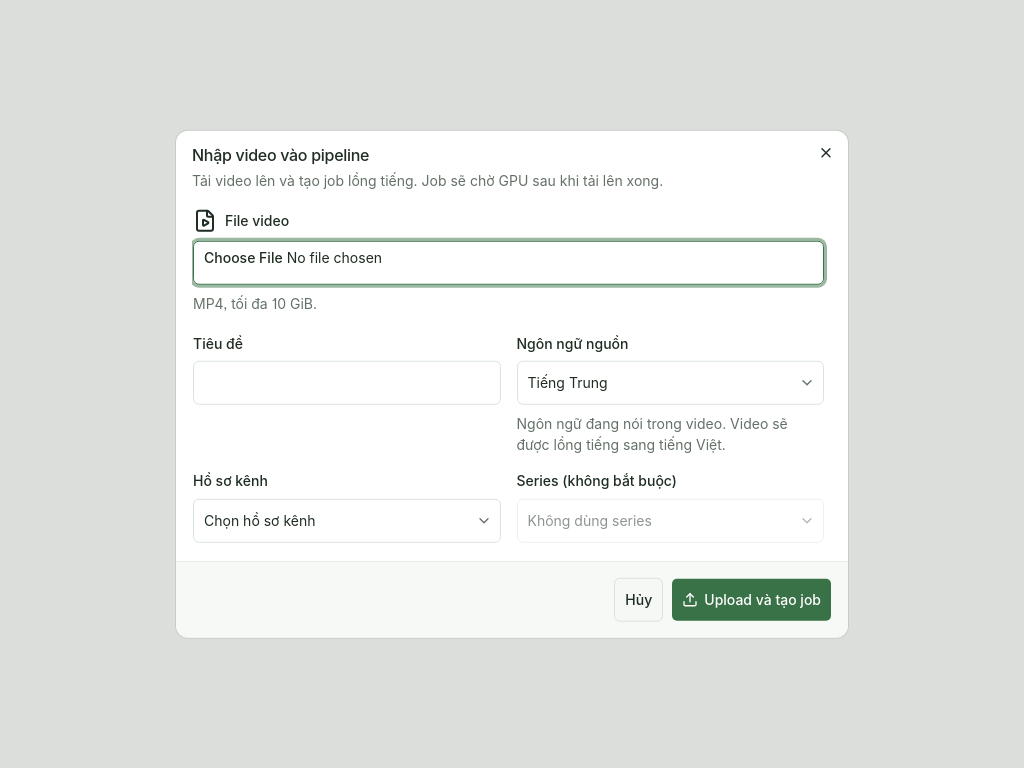
Test case: LocalImportDialog › picks the source language by name, defaulting to Chinese
Click the dropdown named "Ngôn ngữ nguồn" at (568, 382), box [516, 361, 824, 405]
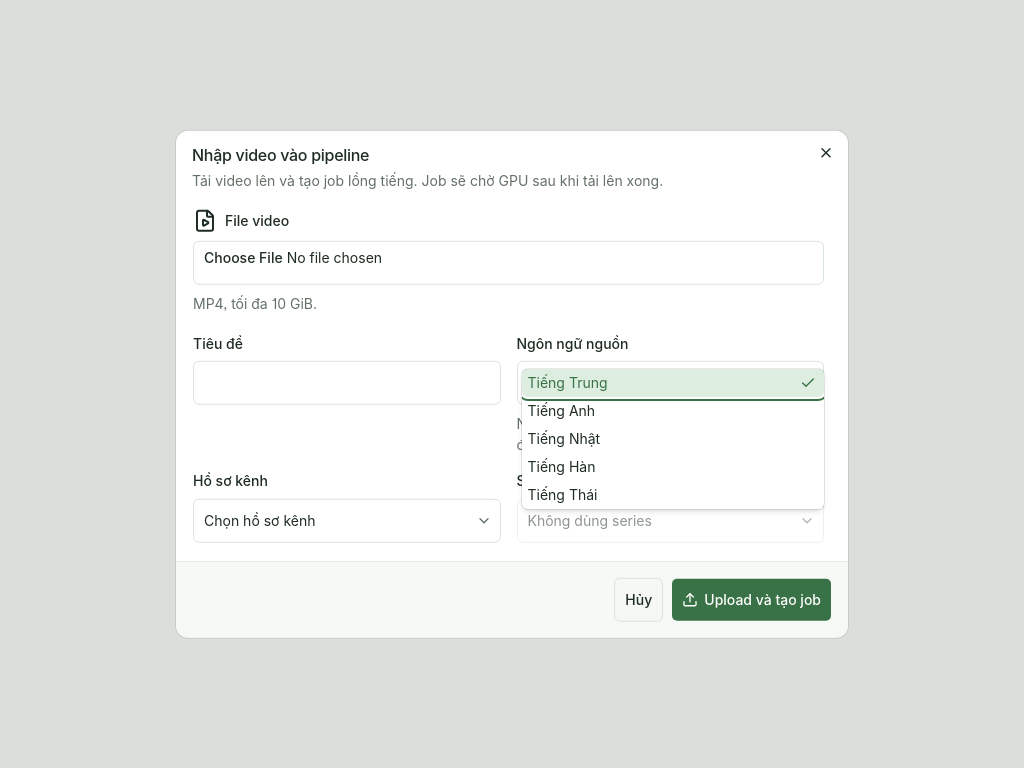
Check: the text "Ngôn ngữ đang nói trong video. Video sẽ được lồng tiếng sang tiếng Việt." is shown, box [516, 413, 824, 455]
Check: the options "Tiếng " read "Tiếng Trung", "Tiếng Anh", "Tiếng Nhật", "Tiếng Hàn", "Tiếng Thái", in this order, box [522, 369, 824, 397]; [528, 402, 595, 419]; [528, 430, 600, 447]; [528, 458, 595, 475]; [528, 486, 598, 503]
